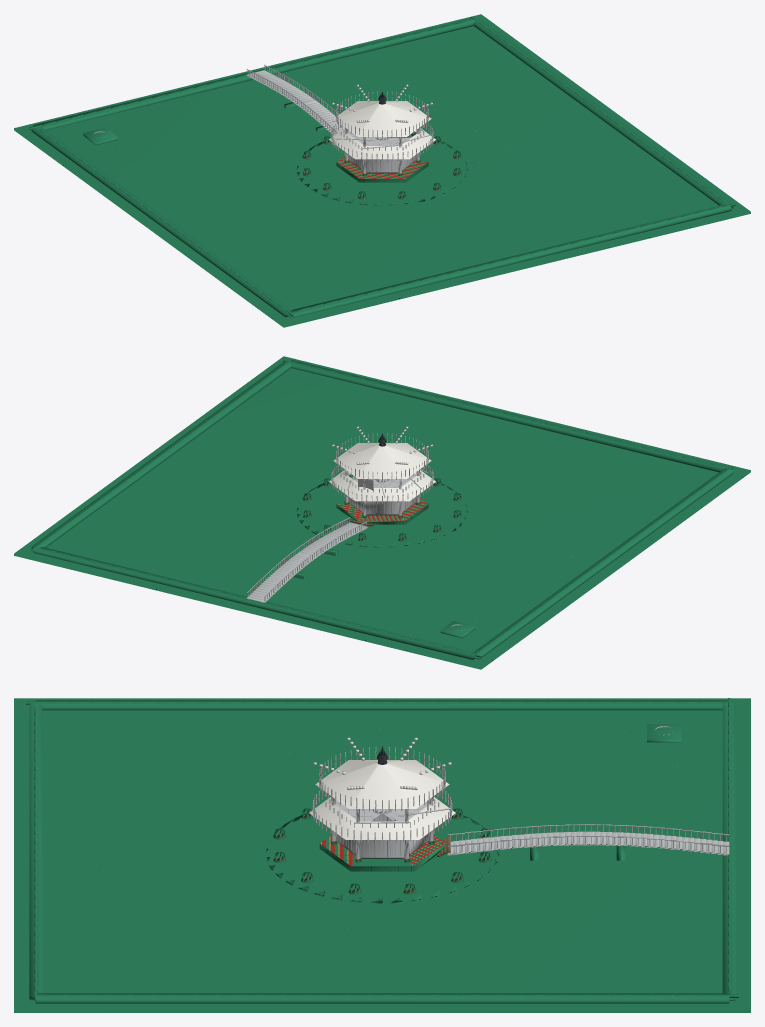
3 renders of one model, top to bottom at view 1: azimuth 30°, elevation 25°; view 2: azimuth 150°, elevation 25°; view 3: azimuth 270°, elevation 25°, orthographic. The views are drawn at different scales.
Visible parts, largest first — view 1: hyangwonji_lotus_pond_and_shore, hyangwonjeong_hex_roofs_and_finial, hyangwonjeong_island_plinth, chwihyanggyo_wooden_arch_bridge, hyangwonjeong_hex_timber_frame; view 2: hyangwonji_lotus_pond_and_shore, hyangwonjeong_hex_roofs_and_finial, chwihyanggyo_wooden_arch_bridge, hyangwonjeong_island_plinth, hyangwonjeong_hex_timber_frame; view 3: hyangwonji_lotus_pond_and_shore, hyangwonjeong_hex_roofs_and_finial, chwihyanggyo_wooden_arch_bridge, hyangwonjeong_island_plinth, hyangwonjeong_hex_timber_frame.
Part boxes in pixels (x1=…): hyangwonji_lotus_pond_and_shore: x1=14, y1=14, x2=750, y2=327; hyangwonjeong_hex_roofs_and_finial: x1=329, y1=84, x2=435, y2=161; hyangwonjeong_island_plinth: x1=296, y1=133, x2=468, y2=206; chwihyanggyo_wooden_arch_bridge: x1=246, y1=64, x2=344, y2=135; hyangwonjeong_hex_timber_frame: x1=331, y1=120, x2=431, y2=176; hyangwonji_lotus_pond_and_shore: x1=14, y1=356, x2=750, y2=669; hyangwonjeong_hex_roofs_and_finial: x1=329, y1=426, x2=435, y2=503; chwihyanggyo_wooden_arch_bridge: x1=246, y1=517, x2=367, y2=602; hyangwonjeong_island_plinth: x1=296, y1=475, x2=468, y2=548; hyangwonjeong_hex_timber_frame: x1=340, y1=469, x2=427, y2=518; hyangwonji_lotus_pond_and_shore: x1=14, y1=698, x2=750, y2=1012; hyangwonjeong_hex_roofs_and_finial: x1=309, y1=737, x2=455, y2=843; chwihyanggyo_wooden_arch_bridge: x1=447, y1=824, x2=729, y2=860; hyangwonjeong_island_plinth: x1=265, y1=808, x2=499, y2=903; hyangwonjeong_hex_timber_frame: x1=325, y1=797, x2=451, y2=862.
Size of the model in its own units: 68 by 12 by 68.
Materials: 5 (5 with a texture image).
